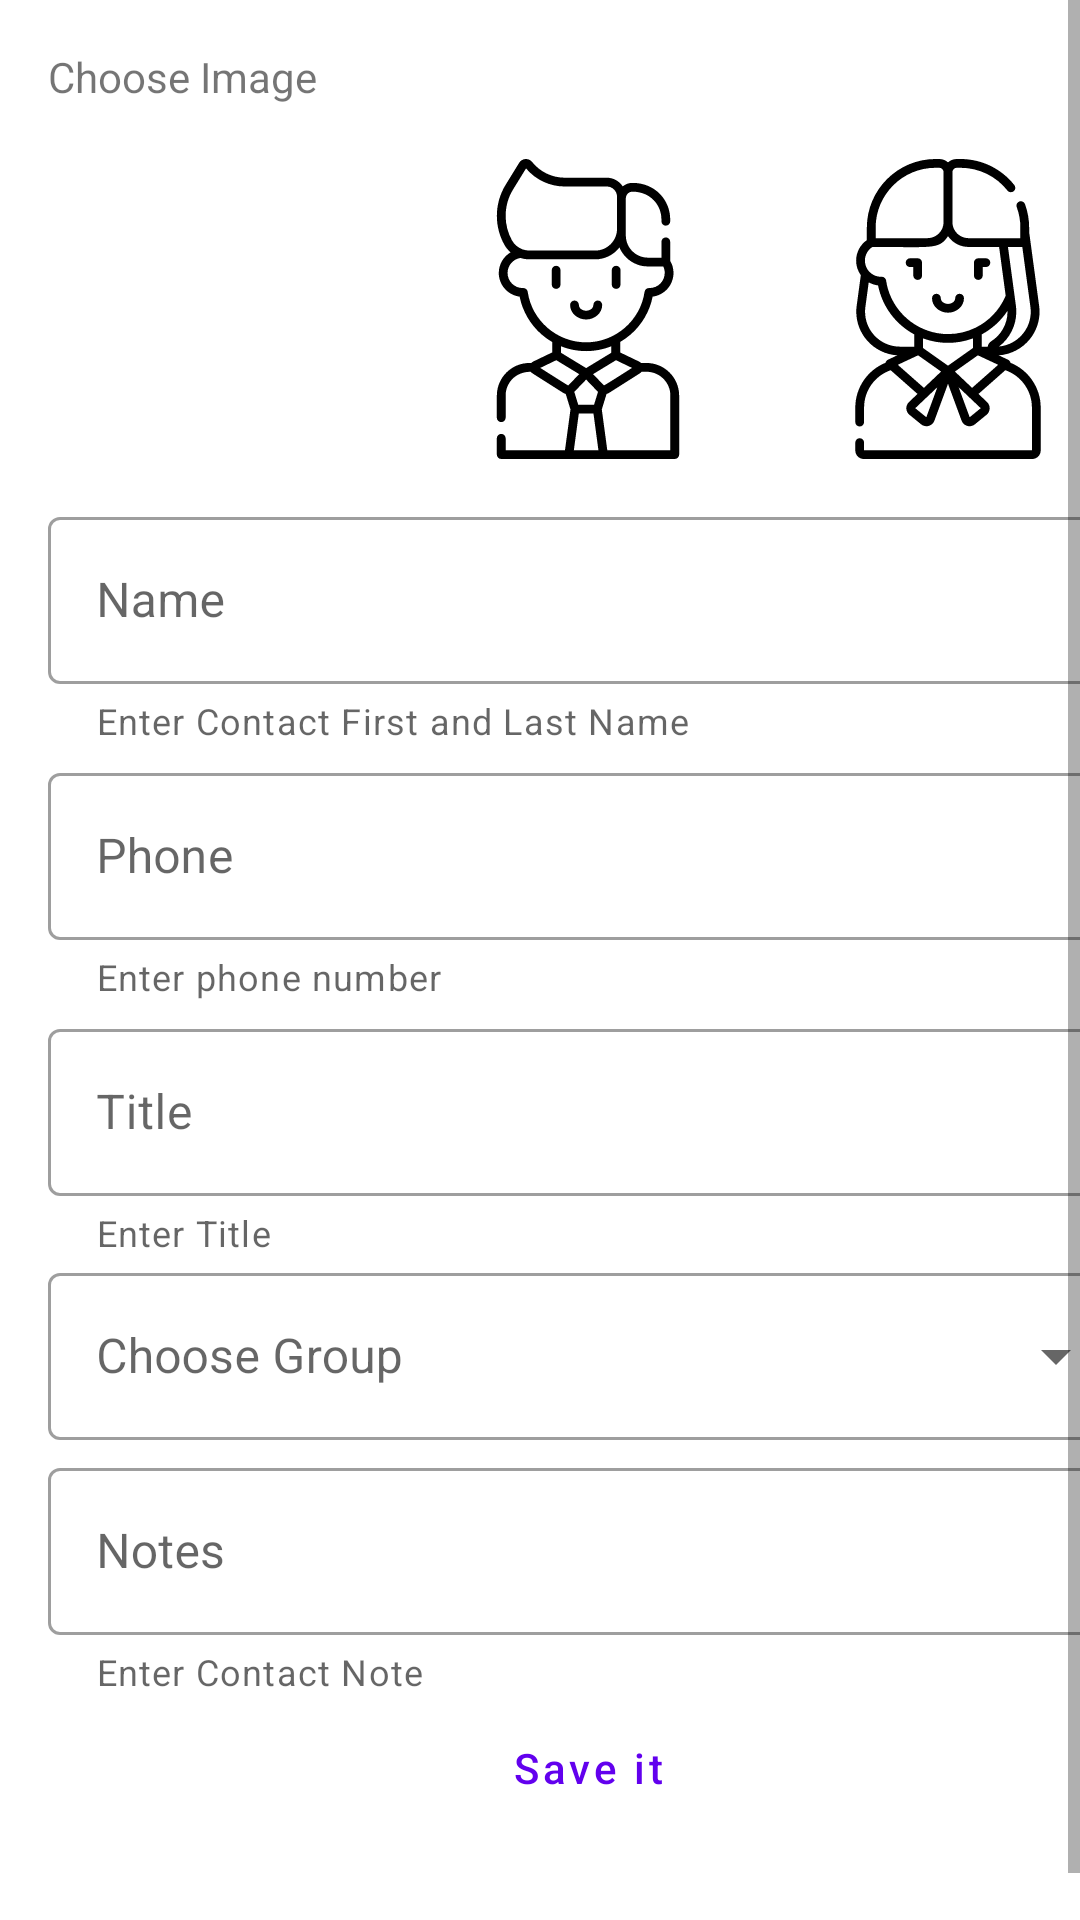

Screen size 1080 x 1920. Icon name, then its center in pixels as point (x, y):
female: point (948, 309)
male: point (588, 309)
